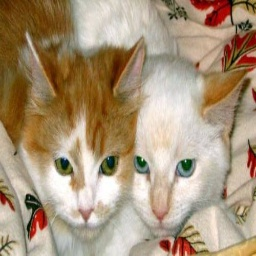cat: (2, 1, 241, 244)
